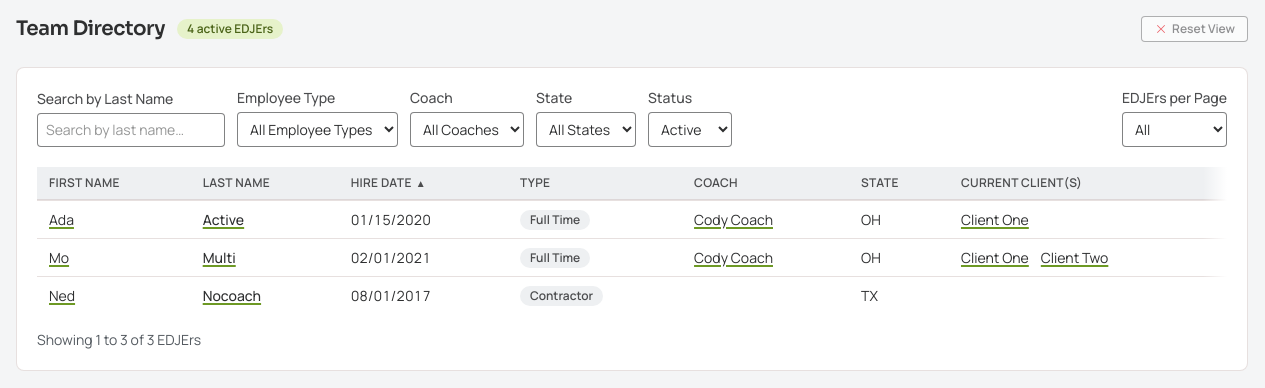
Test: TeamDirectoryPage › says which status the count refers to when an elevated viewer changes scope
Select "Former" in the dropdown labelled "Status" at (690, 130), box [648,112,732,147]
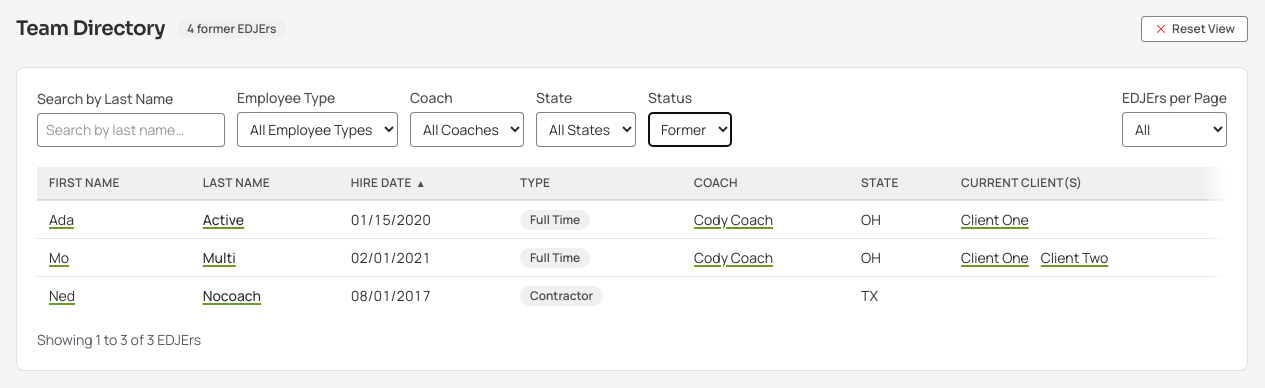
expect the text "4 former EDJErs" is shown: met, box [177,19,286,39]
